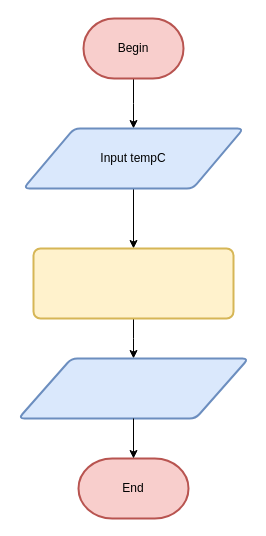
The diagram is 266 pixels wide and 536 high, and some of its shapes have lost their labels. The box of each missing label's shape, as (x1, y1, x2, y2) in pixels:
Display tempF: (17, 357, 249, 419)
tempF = (9*tempC)/5 + 32: (32, 247, 234, 319)
